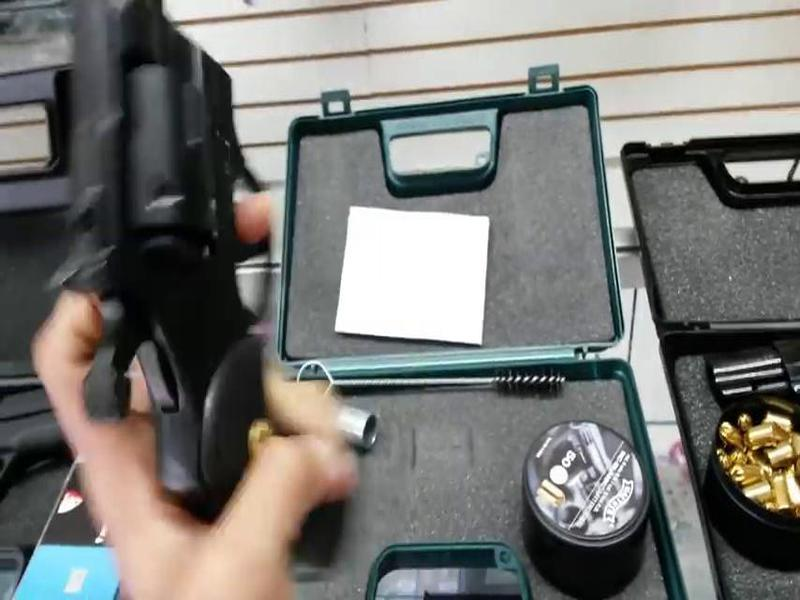Revolver: (17, 1, 303, 563)
